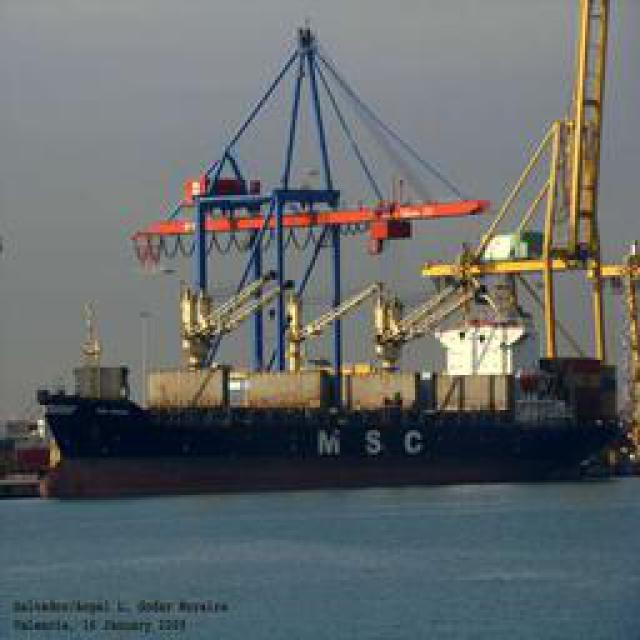Ship: (46, 46, 634, 466)
